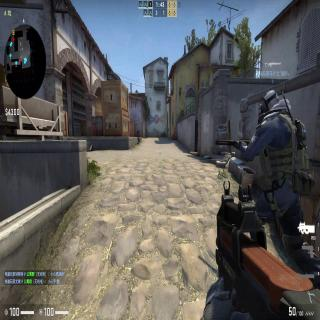CT-Body: (240, 90, 314, 196)
CT-Head: (255, 92, 281, 121)
